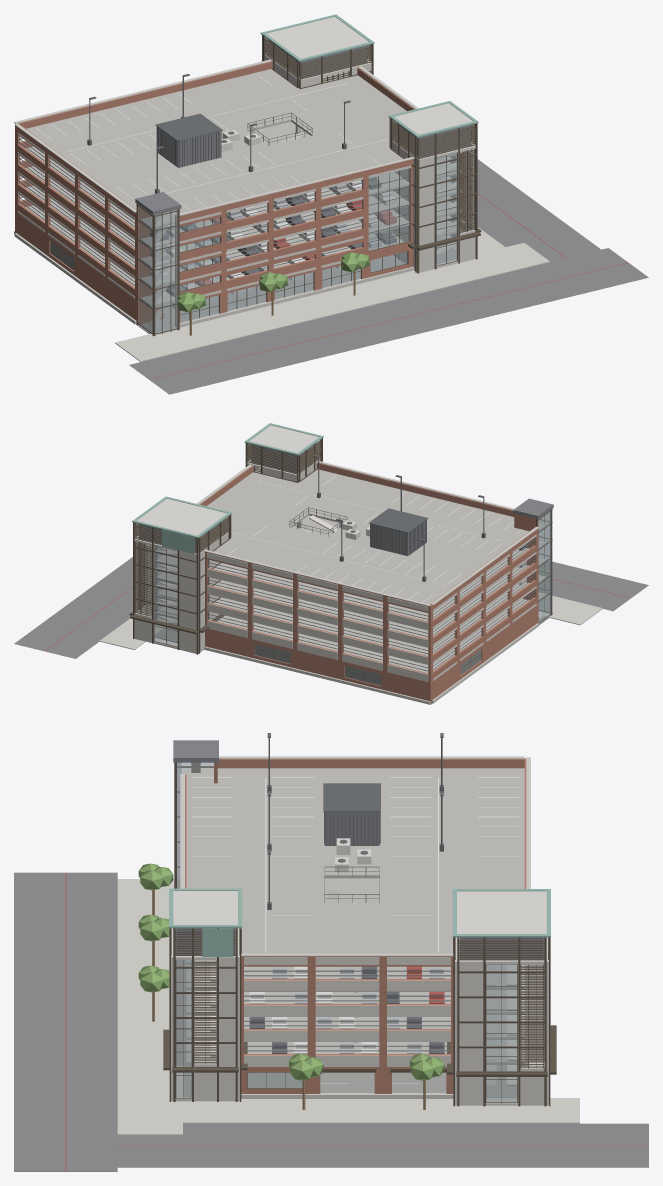
File: clay-brick-parkade-clay-v002.glb
3 renders of one model, top to bottom at view 1: azimuth 30°, elevation 25°; view 2: azimuth 150°, elevation 25°; view 3: azimuth 270°, elevation 25°, orthographic. The views are drawn at different scales.
Parts seen in each view (by area): view 1: CLAY_FLOOR, CLAY_WALL, CLAY_ASPHALT, CLAY_CONCRETE, CLAY_GLASS, CLAY_BRONZE, CLAY_METAL, CLAY_PALE, CLAY_FOUNDATION, CLAY_TRIM, CLAY_CAR_WHITE, CLAY_STONE (+7 smaller); view 2: CLAY_FLOOR, CLAY_CONCRETE, CLAY_WALL, CLAY_ASPHALT, CLAY_BRONZE, CLAY_METAL, CLAY_GLASS, CLAY_PALE, CLAY_TRIM, CLAY_PATINA, CLAY_STONE, CLAY_WHITE (+1 smaller); view 3: CLAY_FLOOR, CLAY_ASPHALT, CLAY_CONCRETE, CLAY_BRONZE, CLAY_WALL, CLAY_METAL, CLAY_GLASS, CLAY_PALE, CLAY_FOUNDATION, CLAY_PLANTING, CLAY_PATINA, CLAY_WHITE (+7 smaller).
Part boxes in pixels (left/top/right/bottom): CLAY_FLOOR: left=25, top=68, right=462, bottom=307; CLAY_WALL: left=15, top=61, right=414, bottom=326; CLAY_ASPHALT: left=129, top=154, right=648, bottom=394; CLAY_CONCRETE: left=14, top=55, right=549, bottom=361; CLAY_GLASS: left=50, top=149, right=472, bottom=334; CLAY_BRONZE: left=50, top=35, right=481, bottom=336; CLAY_METAL: left=18, top=40, right=470, bottom=285; CLAY_PALE: left=172, top=17, right=473, bottom=308; CLAY_FOUNDATION: left=136, top=244, right=456, bottom=333; CLAY_TRIM: left=155, top=113, right=222, bottom=167; CLAY_CAR_WHITE: left=150, top=180, right=396, bottom=289; CLAY_STONE: left=14, top=231, right=414, bottom=327; CLAY_FLOOR: left=155, top=468, right=546, bottom=672; CLAY_CONCRETE: left=99, top=459, right=602, bottom=681; CLAY_WALL: left=200, top=462, right=538, bottom=703; CLAY_ASPHALT: left=14, top=545, right=648, bottom=658; CLAY_BRONZE: left=129, top=438, right=552, bottom=685; CLAY_METAL: left=139, top=442, right=553, bottom=671; CLAY_GLASS: left=147, top=510, right=551, bottom=685; CLAY_PALE: left=136, top=425, right=369, bottom=539; CLAY_TRIM: left=369, top=508, right=428, bottom=555; CLAY_PATINA: left=132, top=423, right=323, bottom=553; CLAY_STONE: left=204, top=623, right=538, bottom=704; CLAY_WHITE: left=228, top=475, right=521, bottom=602; CLAY_FLOOR: left=186, top=768, right=524, bottom=1064; CLAY_ASPHALT: left=14, top=872, right=648, bottom=1171; CLAY_CONCRETE: left=117, top=756, right=579, bottom=1135; CLAY_BRONZE: left=163, top=762, right=556, bottom=1106; CLAY_WALL: left=185, top=758, right=526, bottom=1093; CLAY_METAL: left=173, top=740, right=543, bottom=1051; CLAY_GLASS: left=176, top=762, right=517, bottom=1102; CLAY_PALE: left=173, top=838, right=546, bottom=933; CLAY_FOUNDATION: left=183, top=1062, right=528, bottom=1097; CLAY_PLANTING: left=138, top=863, right=444, bottom=1080; CLAY_PATINA: left=169, top=888, right=550, bottom=956; CLAY_WHITE: left=191, top=777, right=519, bottom=1084.
Size of the model in its own units: 82 by 24.88 by 73.6.
